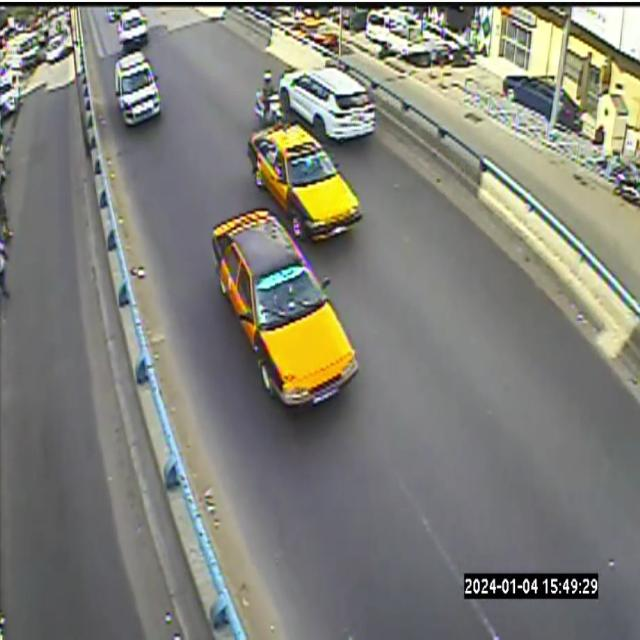car: (211, 210, 358, 406), (247, 126, 362, 238), (276, 68, 376, 140), (115, 50, 161, 125), (118, 9, 147, 50)
